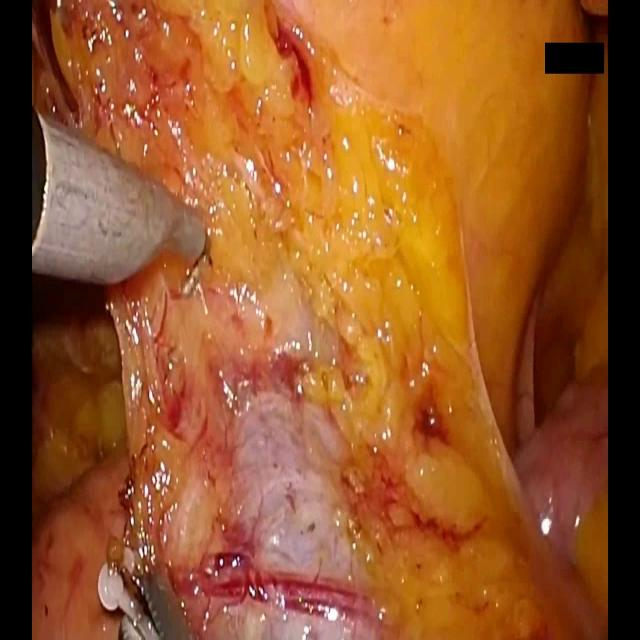surgical-area: (30, 0, 608, 639)
surgical-tool: (30, 105, 206, 286)
